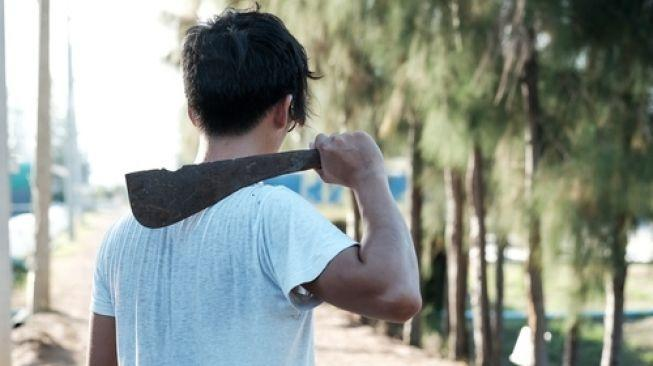facao: (124, 140, 390, 228)
